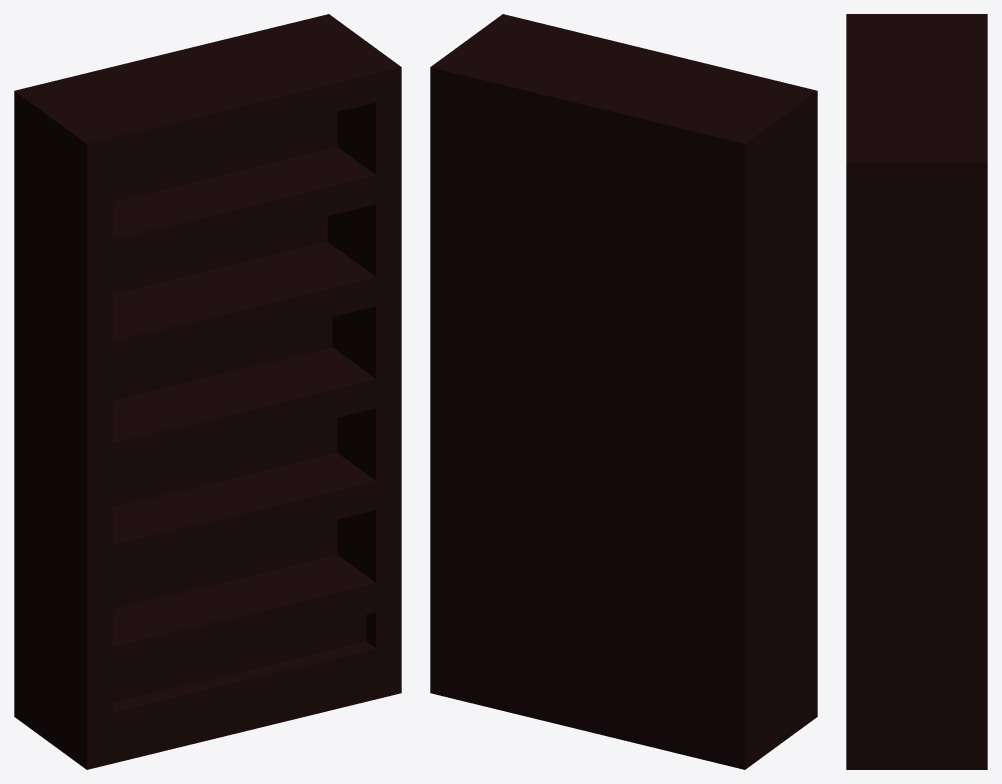
The model's file is biblio.fbx.
3 renders of one model, left to right at view 1: azimuth 30°, elevation 25°; view 2: azimuth 150°, elevation 25°; view 3: azimuth 270°, elevation 25°, orthographic. The views are drawn at different scales.
Parts seen in each view (by area): view 1: Bibliotheque vide; view 2: Bibliotheque vide; view 3: Bibliotheque vide.
Boxes of the visible parts, <box> form: Bibliotheque vide: <box>14,14,401,769</box>; Bibliotheque vide: <box>430,14,817,769</box>; Bibliotheque vide: <box>846,14,987,769</box>.
Size of the model in its own units: 100 by 190 by 40.
1 material, 1 textured.
